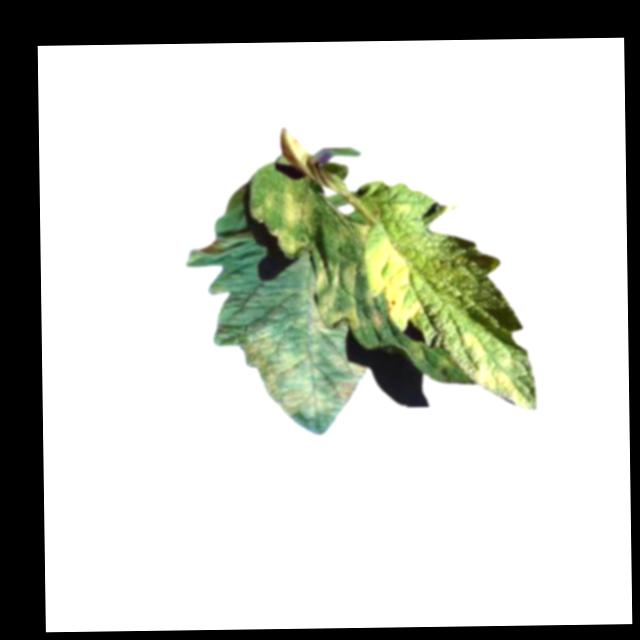Leaf_Mold: (239, 316, 370, 430), (362, 234, 421, 327), (455, 325, 522, 404), (260, 191, 316, 259), (312, 256, 361, 331)
